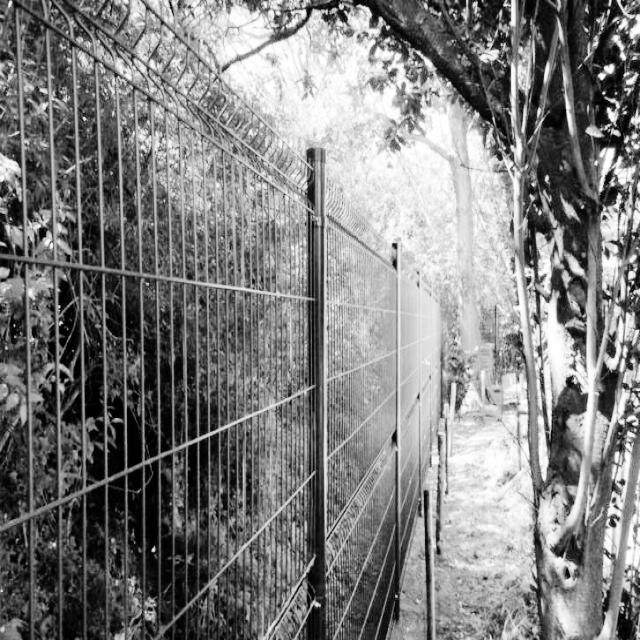fences: (13, 0, 348, 634), (364, 252, 432, 600)
